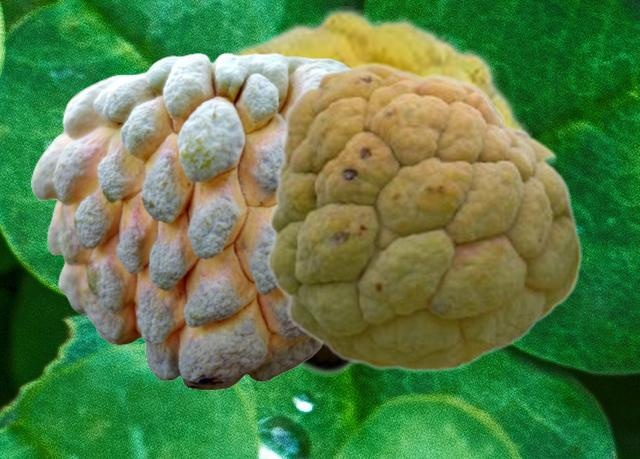atis: (212, 6, 540, 375), (31, 52, 348, 389), (265, 61, 581, 371)
